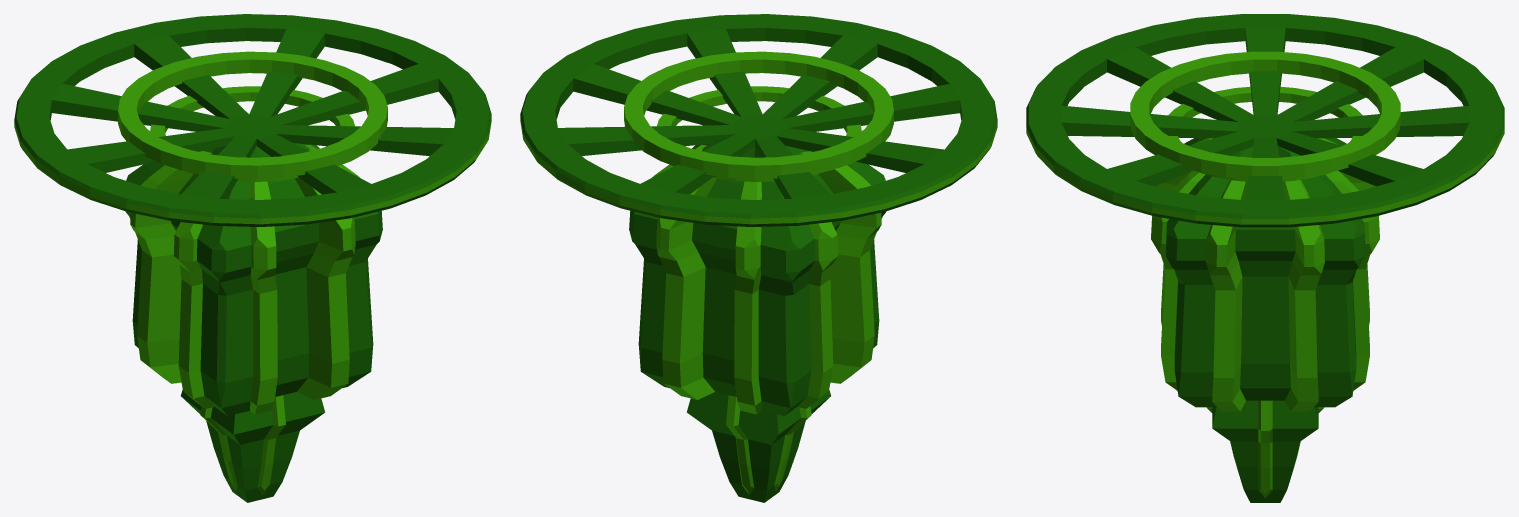
The model's file is GreenMidBB.fbx.
The picture shows the model from 3 angles, left to right: view 1: azimuth 30°, elevation 25°; view 2: azimuth 150°, elevation 25°; view 3: azimuth 270°, elevation 25°; orthographic projection.
Visible parts, largest first — view 1: TopGreen, MidGreen, LegGreen; view 2: TopGreen, MidGreen, LegGreen; view 3: TopGreen, MidGreen, LegGreen.
Boxes of the visible parts, x1,y1,x2,y2 form: TopGreen: [14, 14, 491, 226]; MidGreen: [125, 144, 382, 415]; LegGreen: [181, 390, 325, 502]; TopGreen: [520, 14, 997, 226]; MidGreen: [629, 144, 886, 415]; LegGreen: [686, 390, 830, 502]; TopGreen: [1026, 14, 1504, 227]; MidGreen: [1151, 138, 1379, 411]; LegGreen: [1206, 400, 1324, 502].
Bounding box in the file's own units: 80.52 × 72.05 × 80.52.
